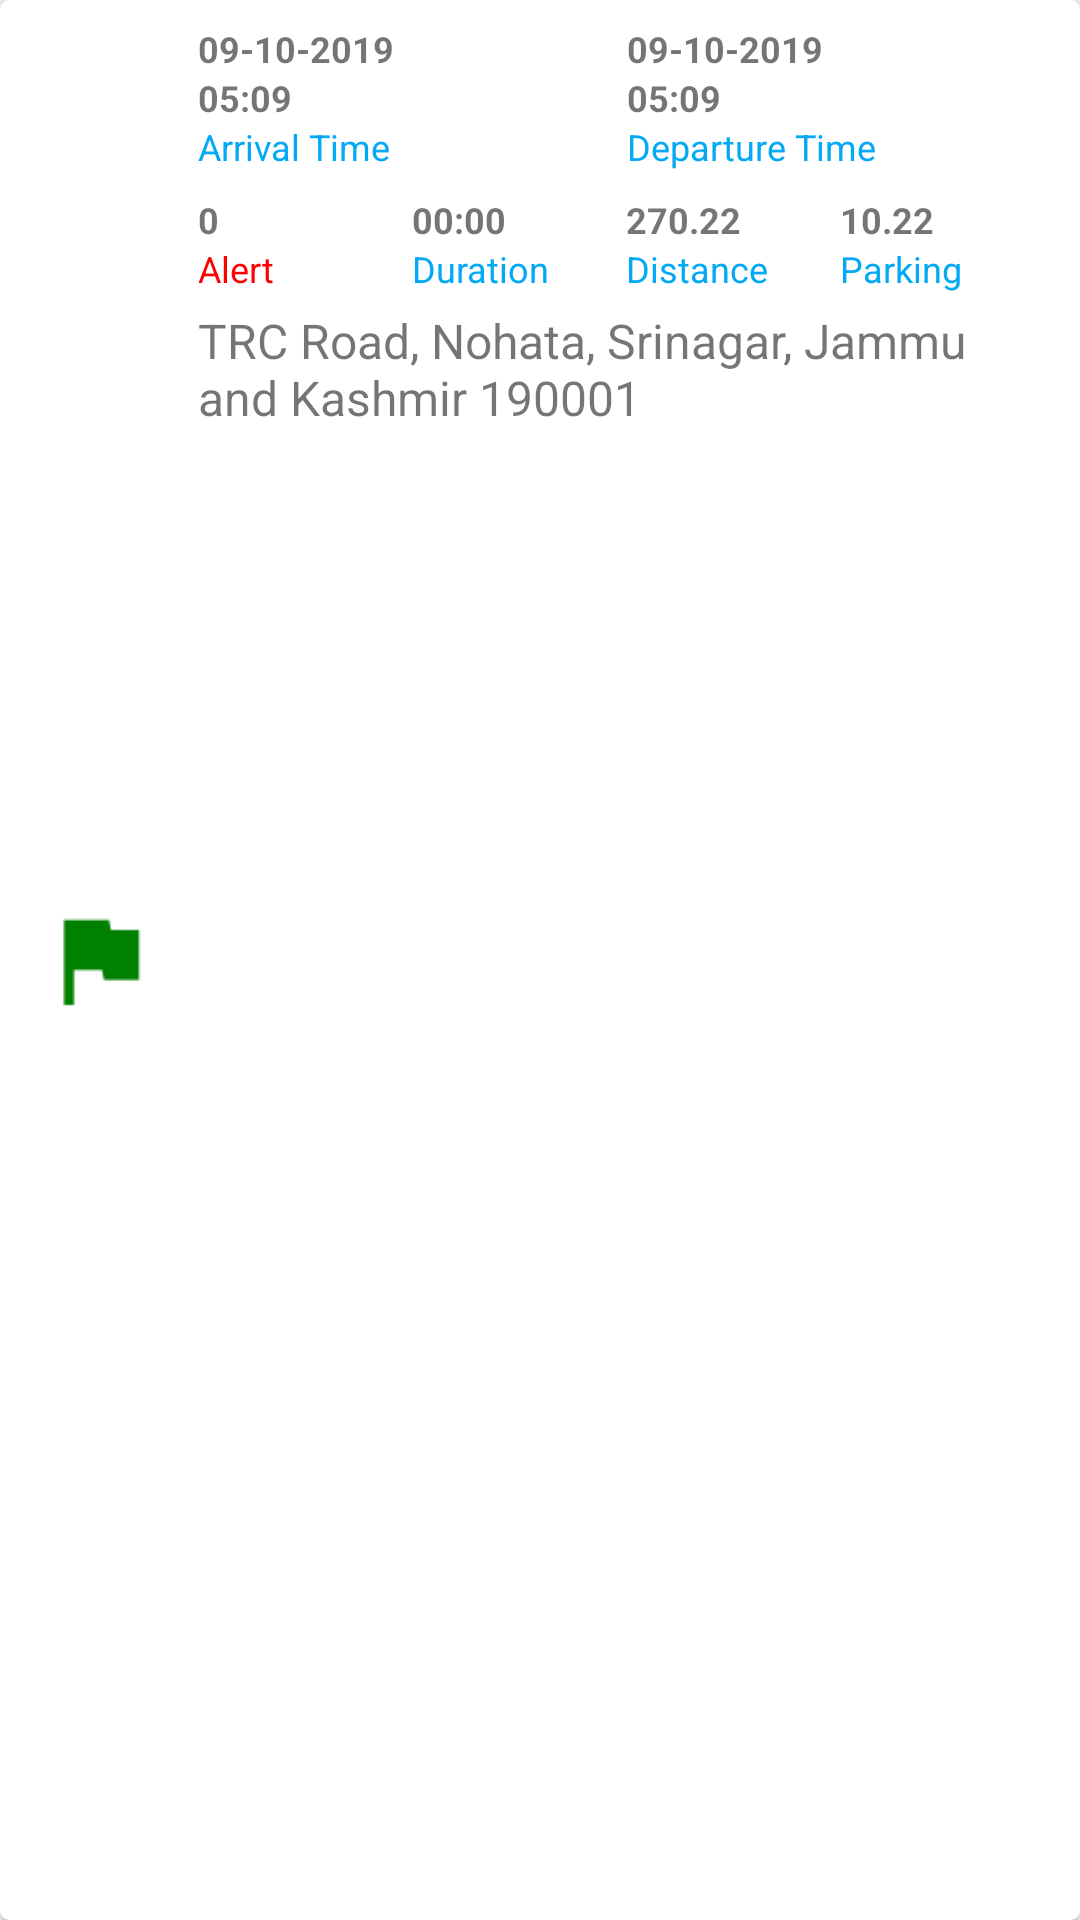

Screen size 1080 × 1920. Icon name, then its box in pixels as [x1,y1,x2,y2]:
flag start: [63,918,141,1006]
